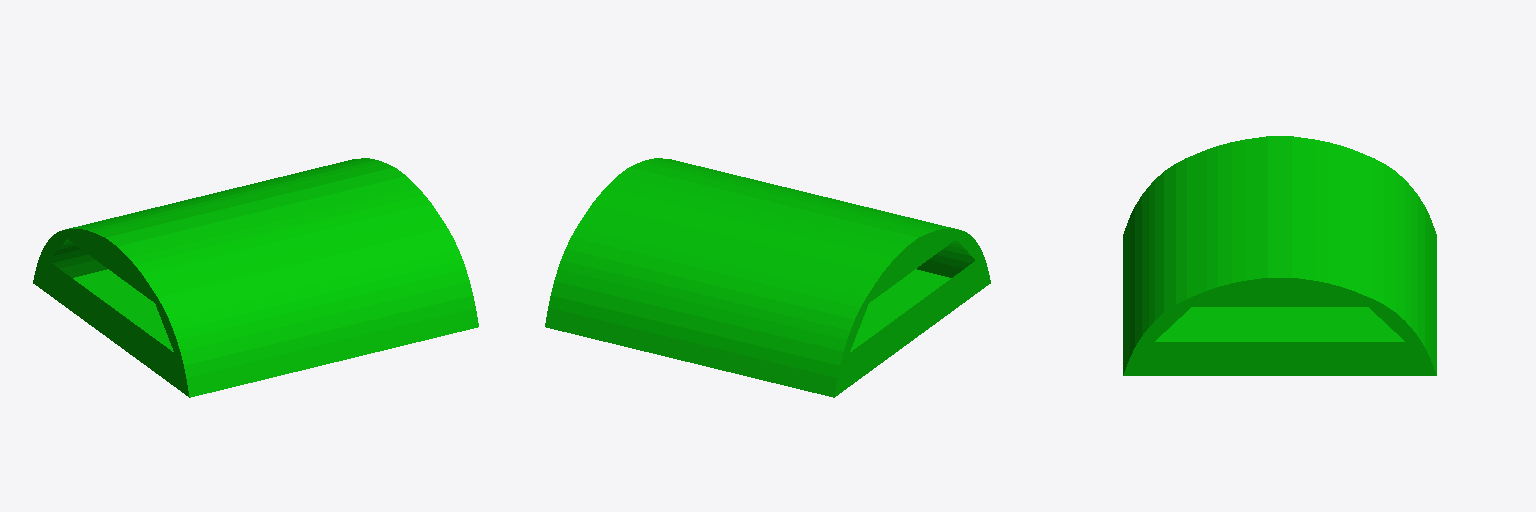
The model's file is hangars.obj.
The picture shows the model from 3 angles: view 1: azimuth 30°, elevation 25°; view 2: azimuth 150°, elevation 25°; view 3: azimuth 270°, elevation 25°; orthographic projection.
Parts seen in each view (by area): view 1: Plane.005_Plane.006; view 2: Plane.005_Plane.006; view 3: Plane.005_Plane.006.
Boxes of the visible parts, x1,y1,x2,y2 form: Plane.005_Plane.006: [33, 158, 478, 397]; Plane.005_Plane.006: [545, 158, 990, 397]; Plane.005_Plane.006: [1123, 136, 1436, 375].
Bounding box in the file's own units: 29 × 9.4 × 27.22.